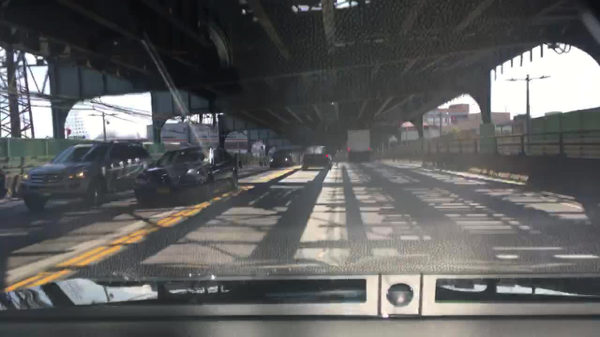car: (18, 139, 150, 212), (134, 147, 238, 206), (301, 145, 332, 169), (268, 147, 296, 166)
person: (257, 146, 265, 167), (235, 148, 242, 169)
truck: (345, 128, 370, 162)
